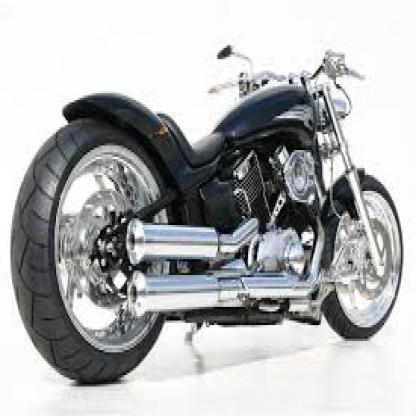Motorcycle: (8, 24, 406, 383)
